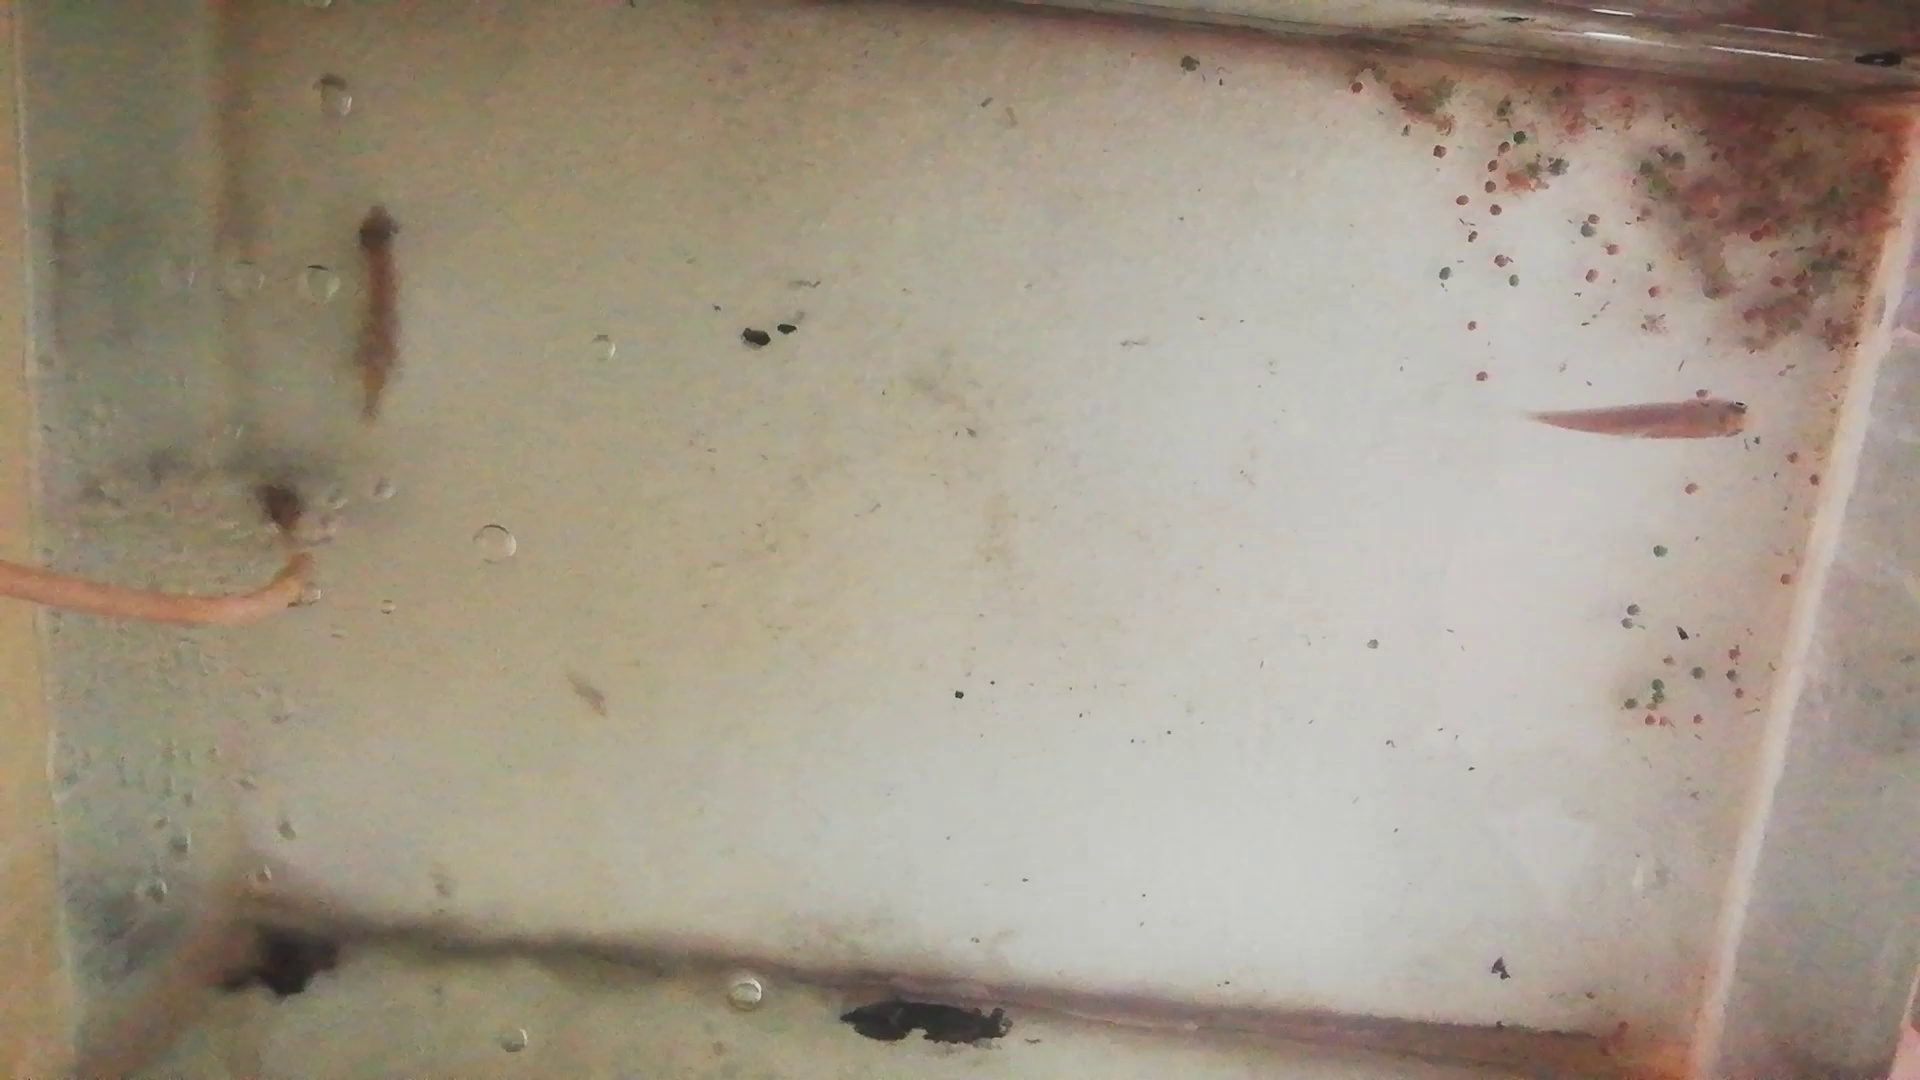fish: (348, 202, 407, 419), (1536, 396, 1753, 446)
